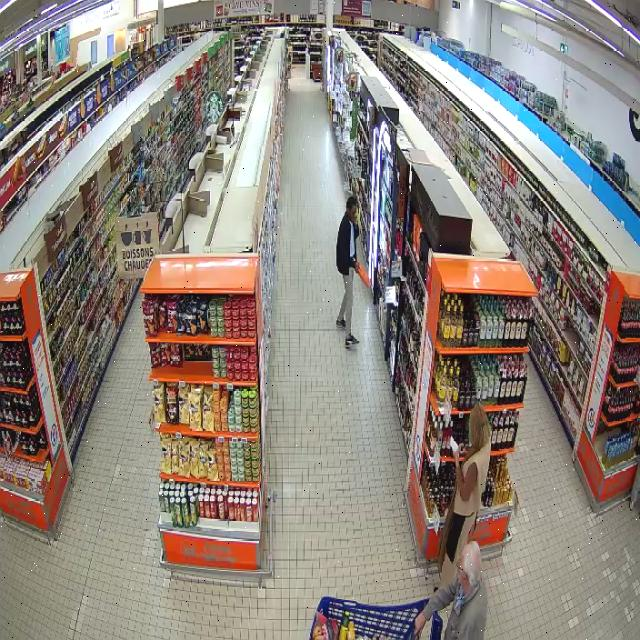article: (359, 263, 371, 288)
hands: (415, 613, 426, 637), (454, 448, 459, 467), (350, 257, 357, 268)
person: (438, 404, 490, 587), (415, 541, 486, 639), (336, 197, 358, 347)
